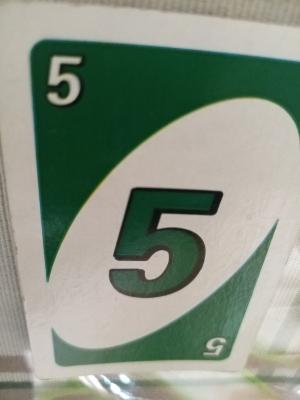green: (26, 46, 245, 365)
num_5: (41, 47, 95, 112), (198, 332, 228, 363)
